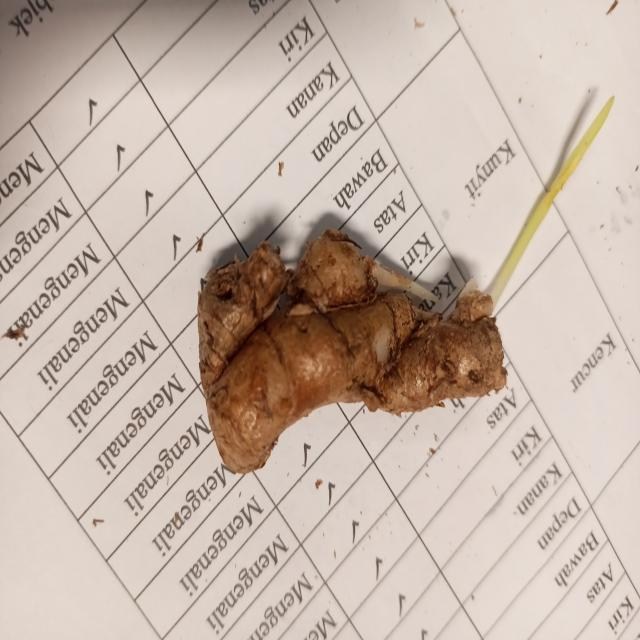ginger: (199, 233, 502, 468)
